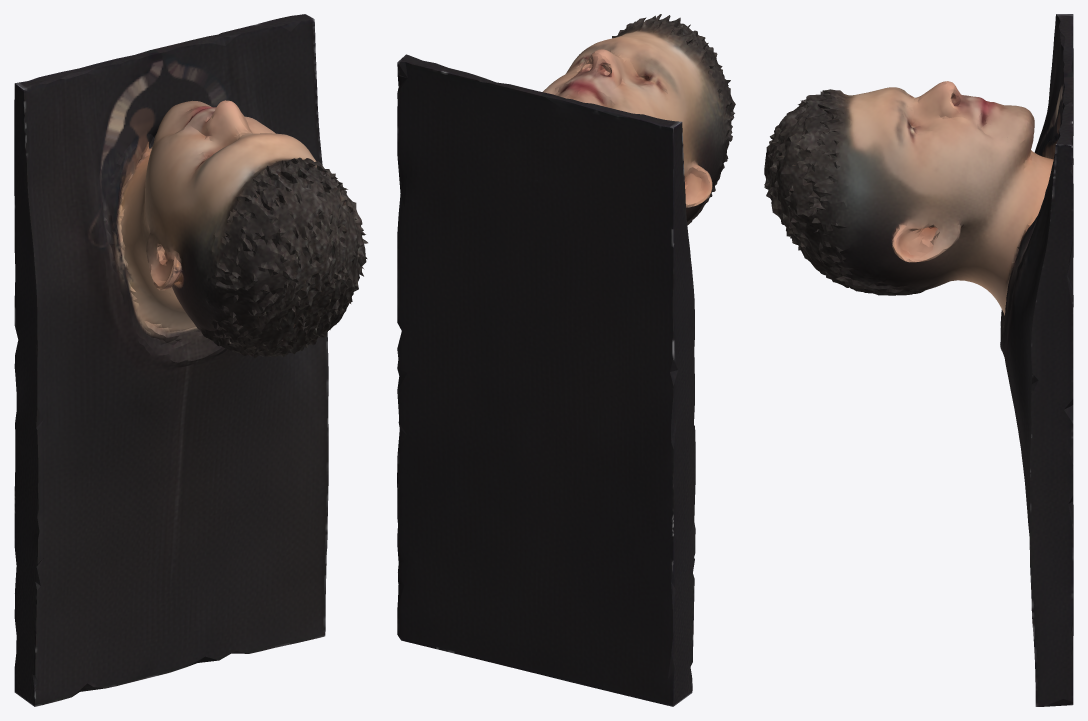
File: jose.glb
3 views of the same model, side by side, from view 1: azimuth 30°, elevation 25°; view 2: azimuth 150°, elevation 25°; view 3: azimuth 270°, elevation 25° (orthographic). The views are drawn at different scales.
Visible parts, largest first — view 1: Jose_AI; view 2: Jose_AI; view 3: Jose_AI.
Part boxes in pixels (x1,y1,x2,y2): Jose_AI: [14, 14, 367, 706]; Jose_AI: [397, 14, 735, 706]; Jose_AI: [764, 14, 1073, 706].
Bounding box in the file's own units: 1.02 × 2.05 × 1.02.
Materials: 1 (1 with a texture image).
